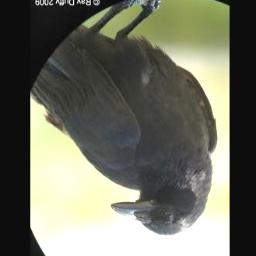Crow: (32, 0, 219, 238)
